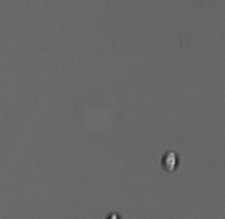Dead Cell: (161, 148, 181, 172)
